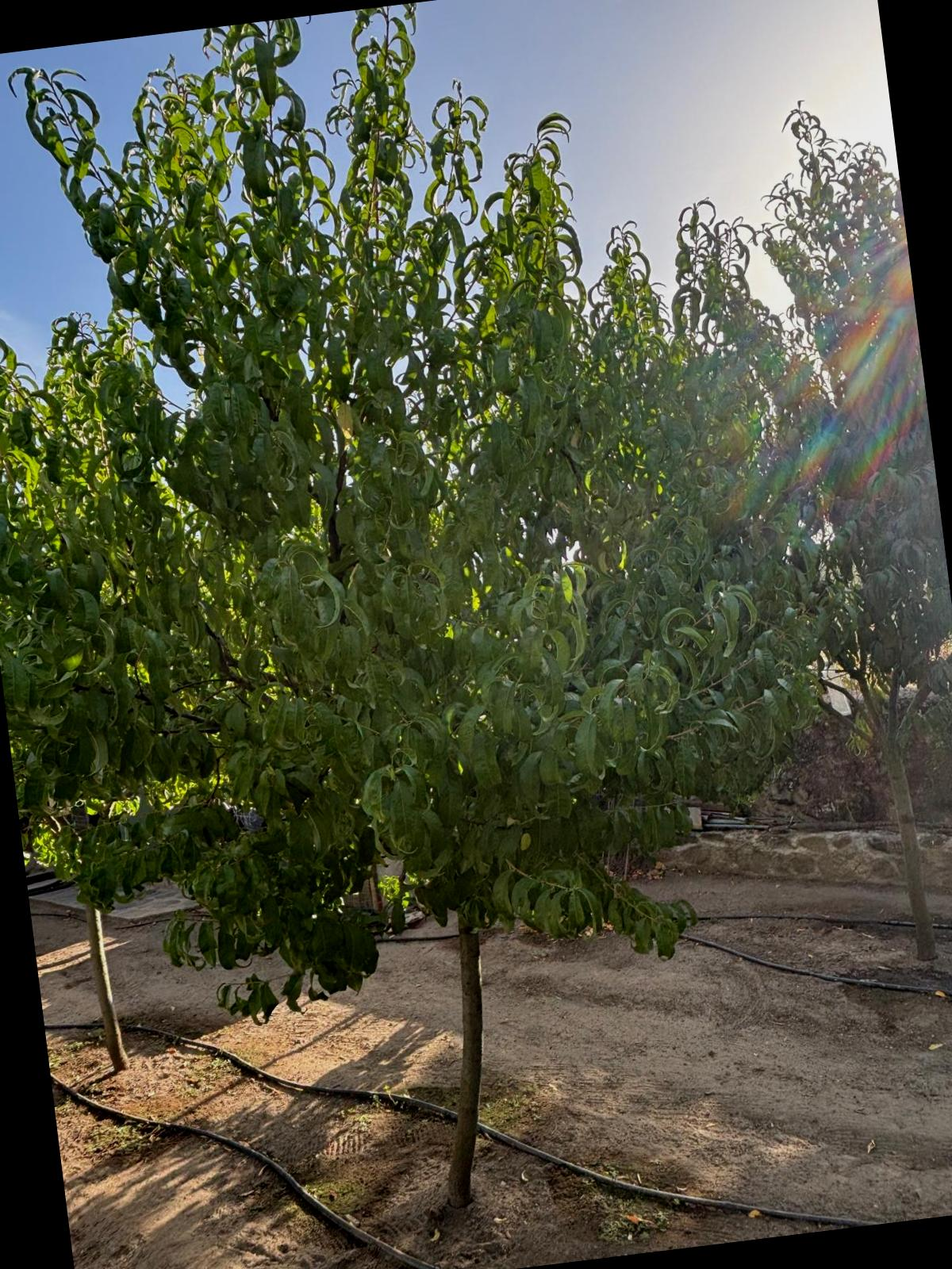melocotonero: (0, 64, 817, 1269)
